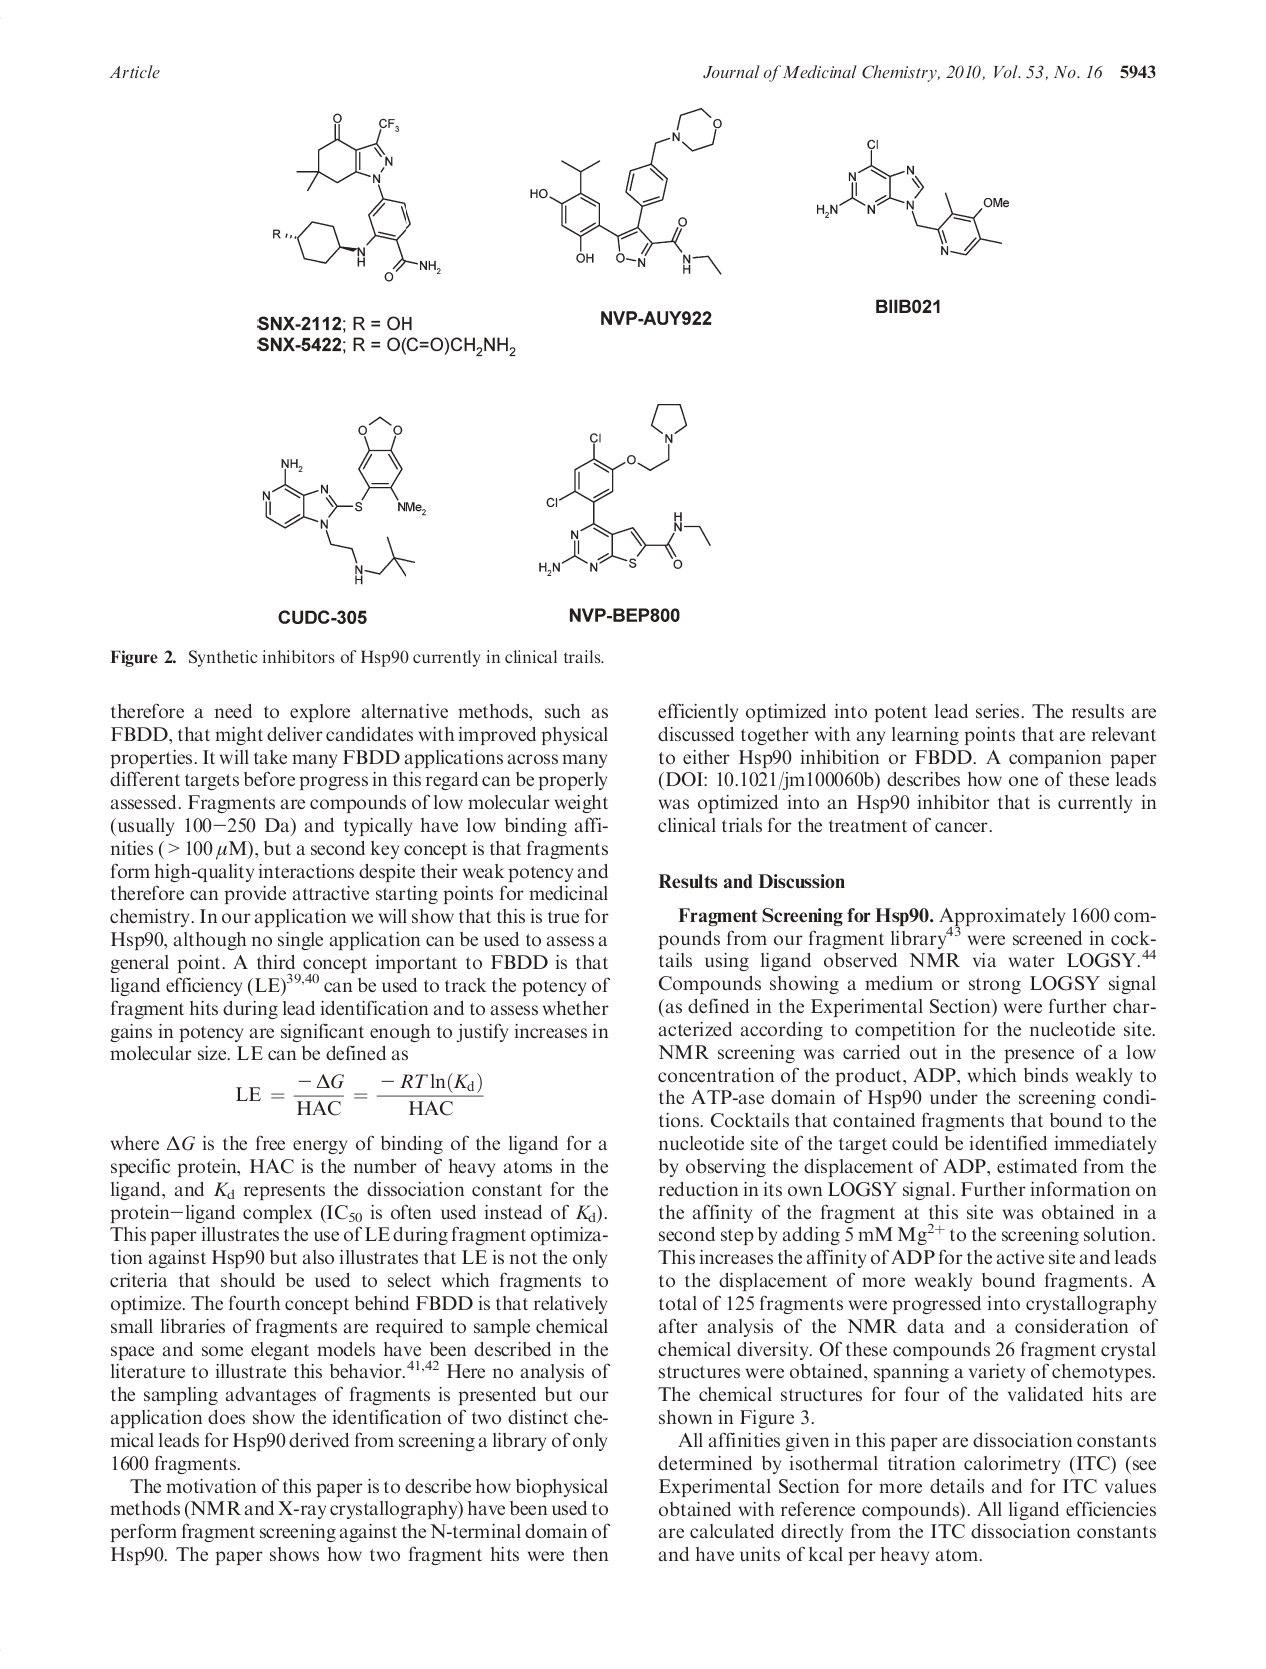exist_molecular: (523, 102, 731, 293), (532, 391, 719, 582), (807, 130, 1019, 286), (258, 402, 427, 589), (269, 110, 445, 289)
